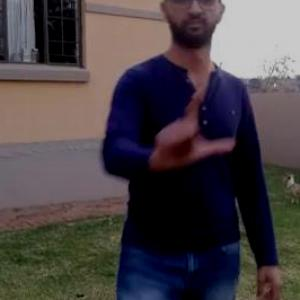land_hand: (140, 79, 241, 185)
